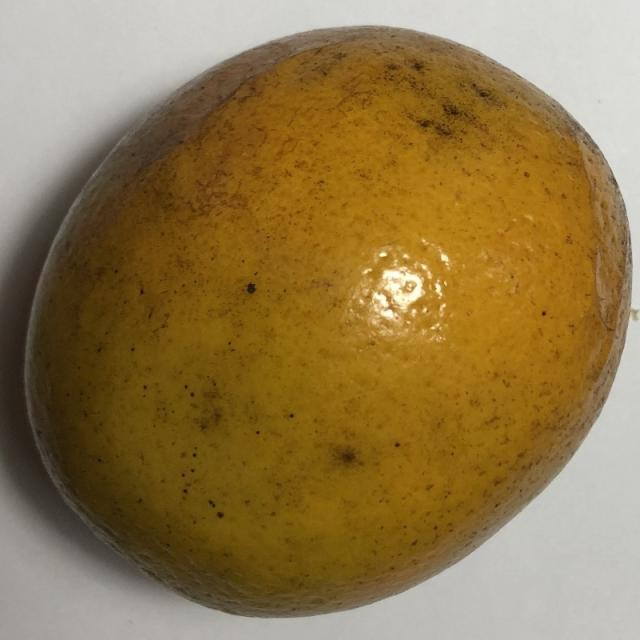blackspot: (22, 12, 640, 625)
